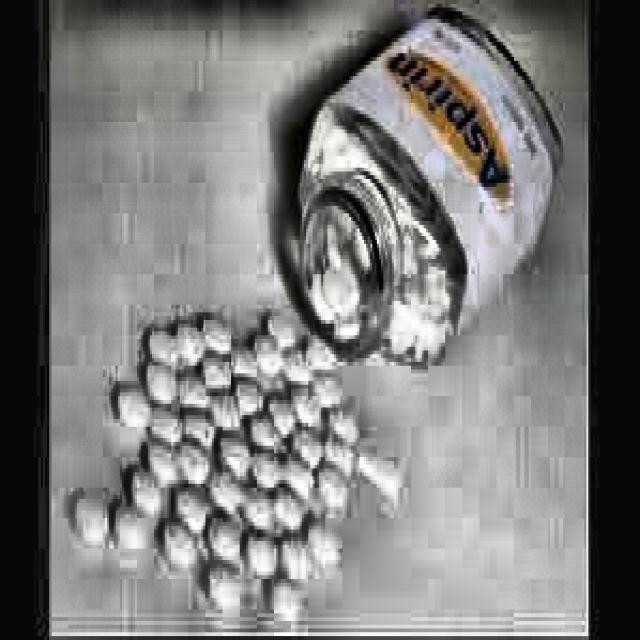Aspirin: (390, 43, 518, 207)
